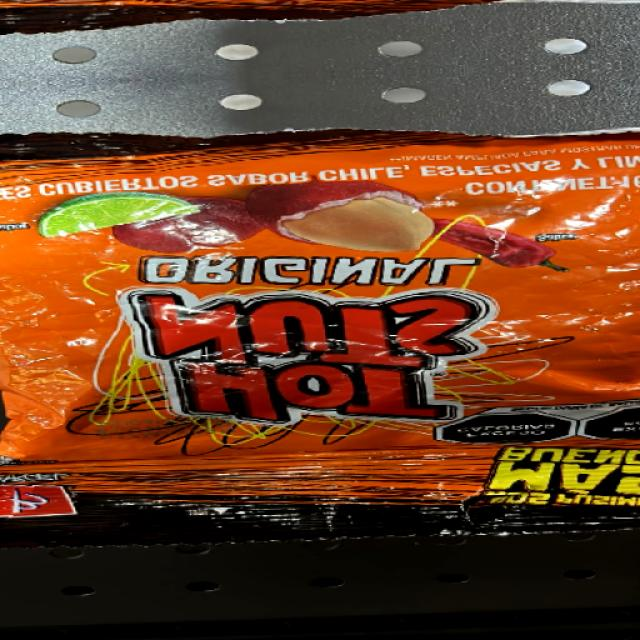hotNutsOriginal: (11, 130, 626, 540)
